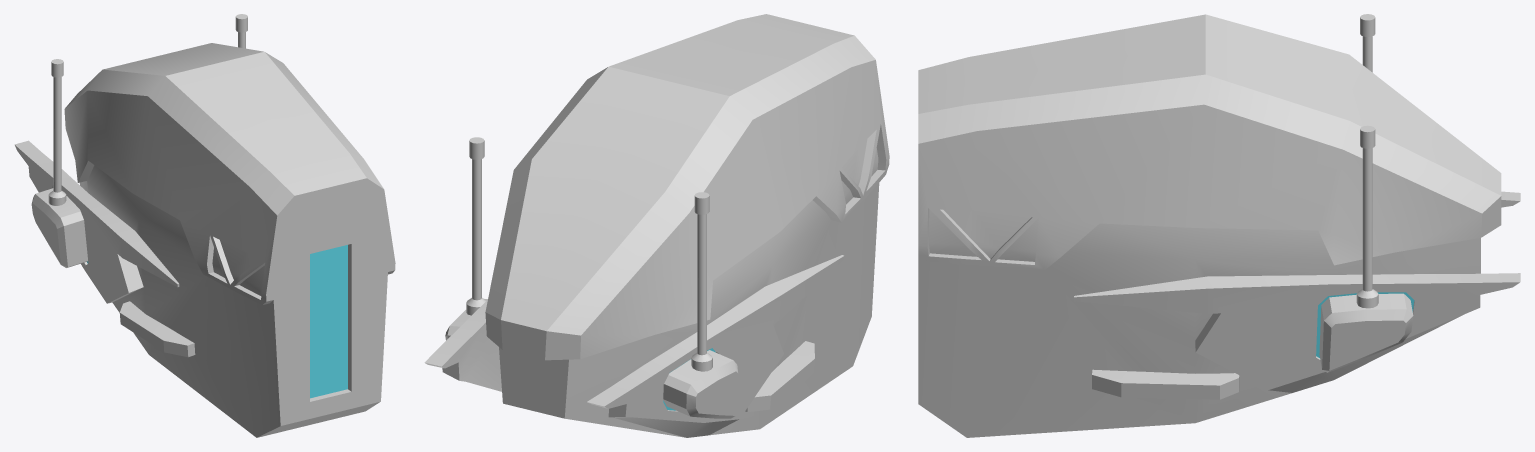
Rendered from Head_Snail.fbx.
3 views of the same model, side by side, from view 1: azimuth 30°, elevation 25°; view 2: azimuth 150°, elevation 25°; view 3: azimuth 270°, elevation 25° (orthographic). The views are drawn at different scales.
Parts seen in each view (by area): view 1: Head_Snails; view 2: Head_Snails; view 3: Head_Snails.
Part boxes in pixels (bbox=[...]): Head_Snails: bbox=[14, 14, 395, 437]; Head_Snails: bbox=[424, 14, 889, 437]; Head_Snails: bbox=[918, 14, 1520, 437].
Size of the model in its own units: 220 by 285 by 431.
